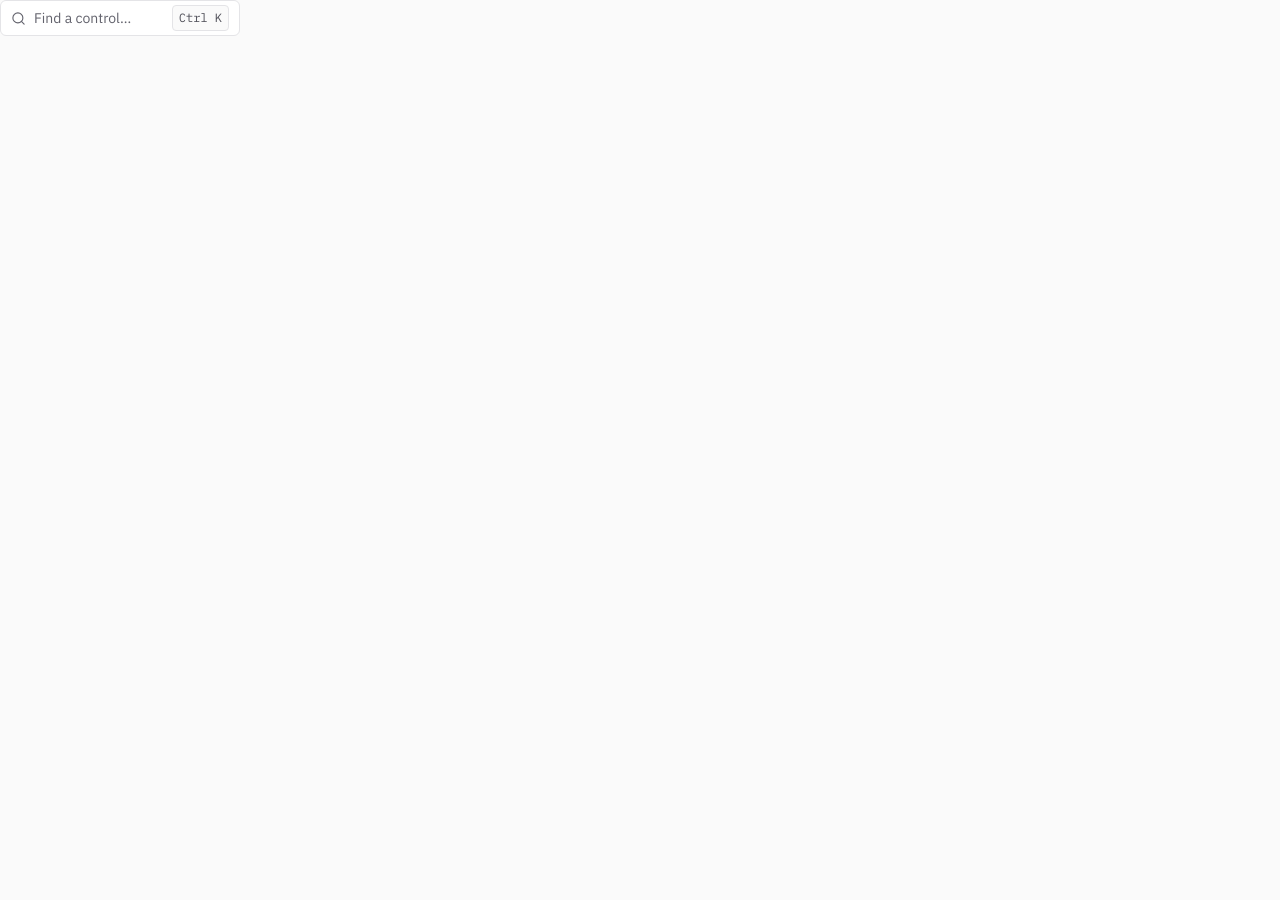
Test case: ControlFinder › opens with Ctrl+K, filters as you type and closes with Esc
This screenshot has width=1280, height=900.
Step 1. Press k
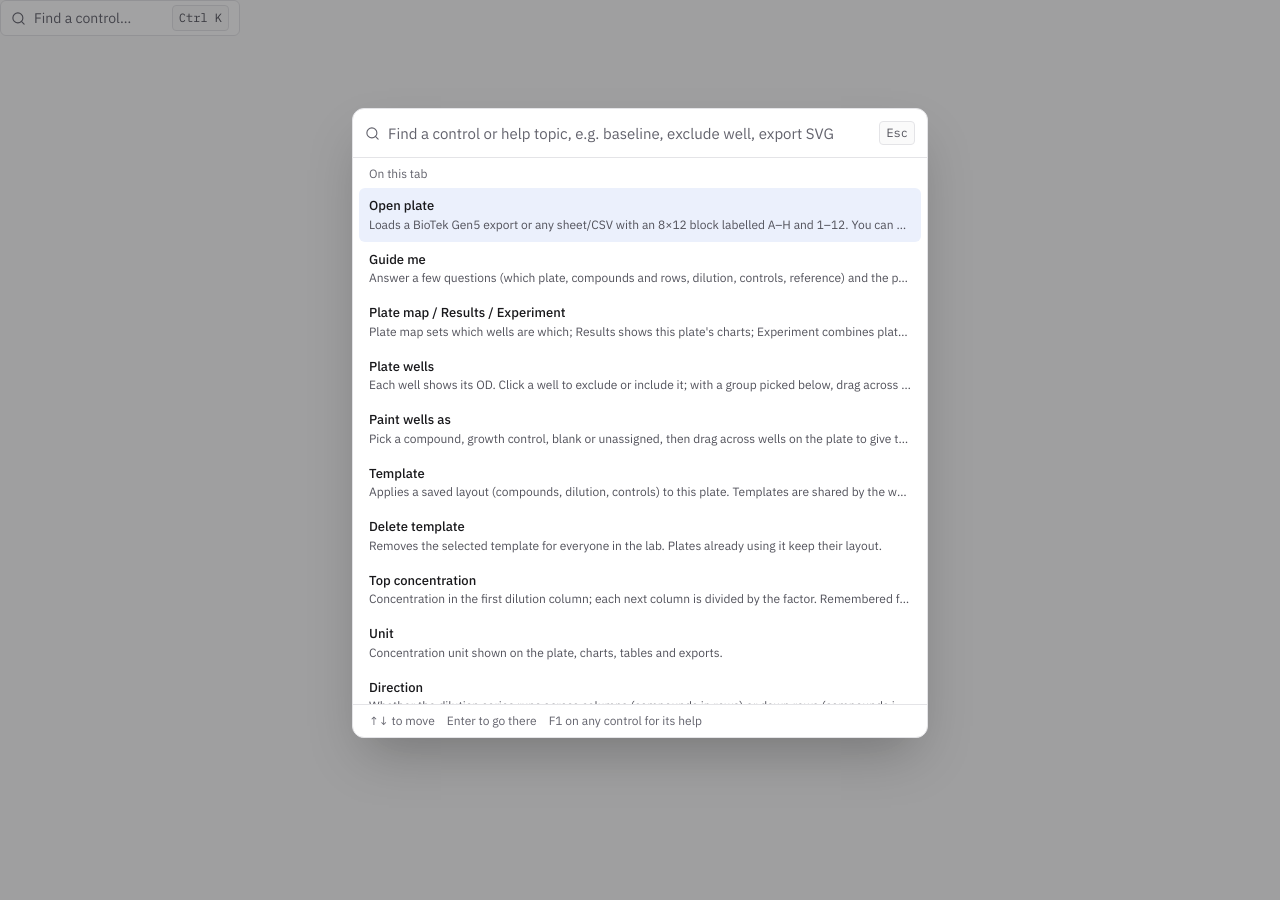
Step 2. Replace the text in the dropdown with "find a con" → (630, 133), box [388,109,871,157]
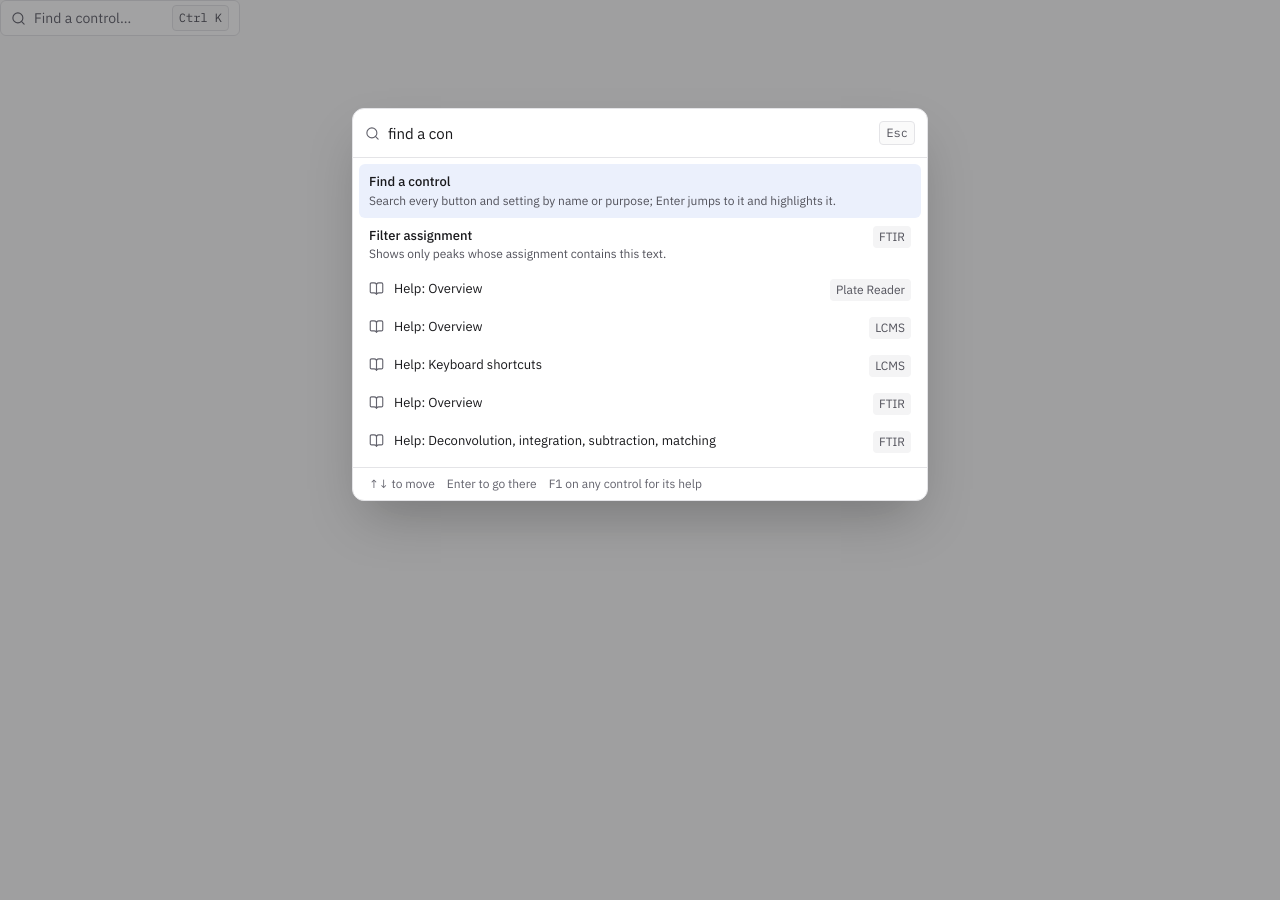
Expected: the option that starts with "Find a control" is shown, [359,164,921,218]
Step 3. Press Escape in the dropdown, box [388,109,871,157]
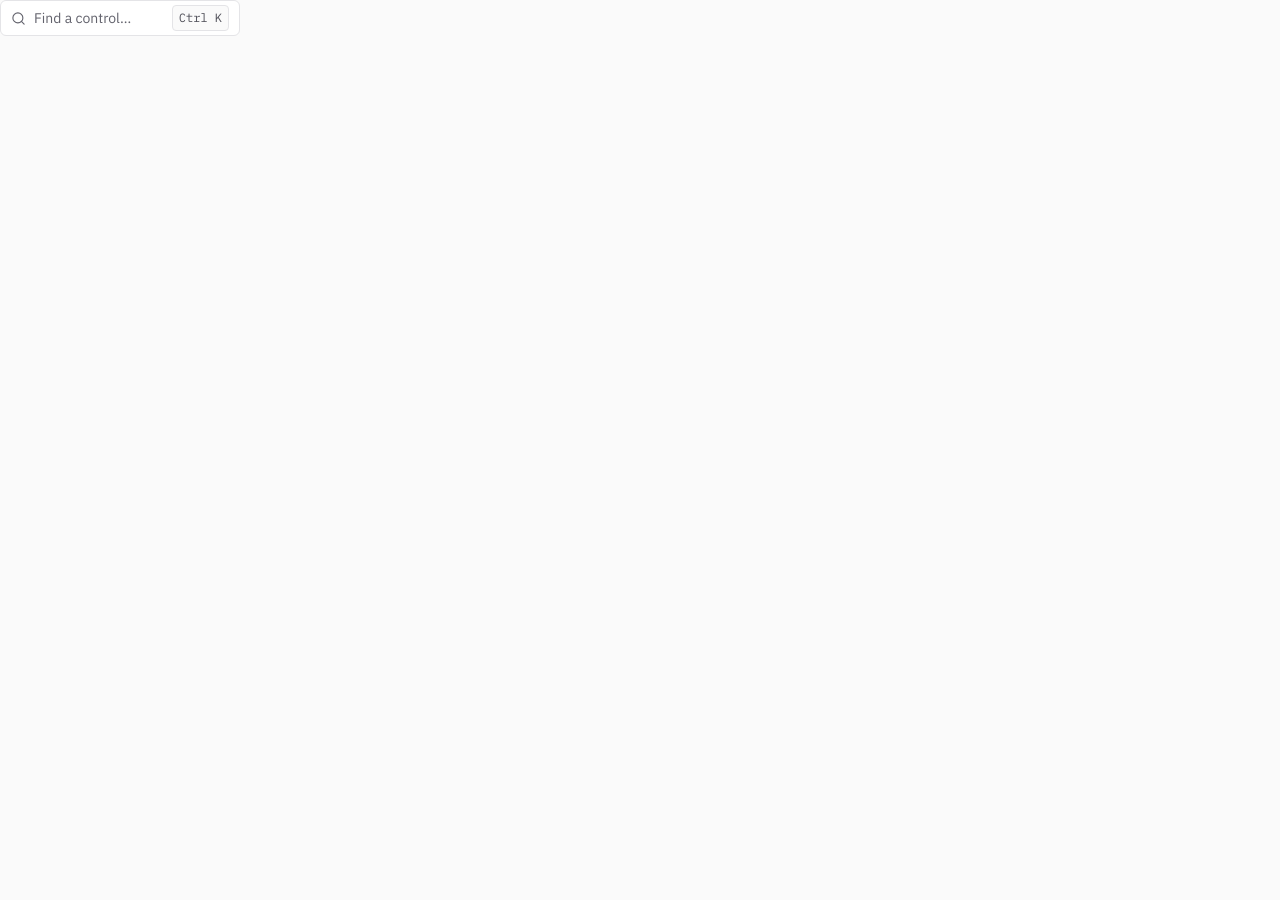
Expected: the dialog is gone
